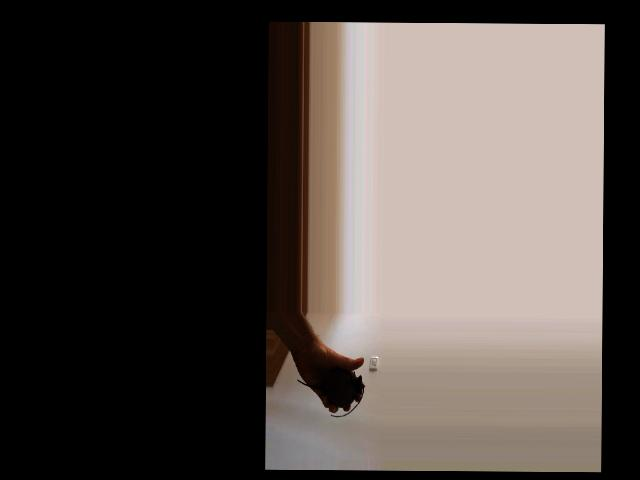beet: (296, 369, 364, 418)
